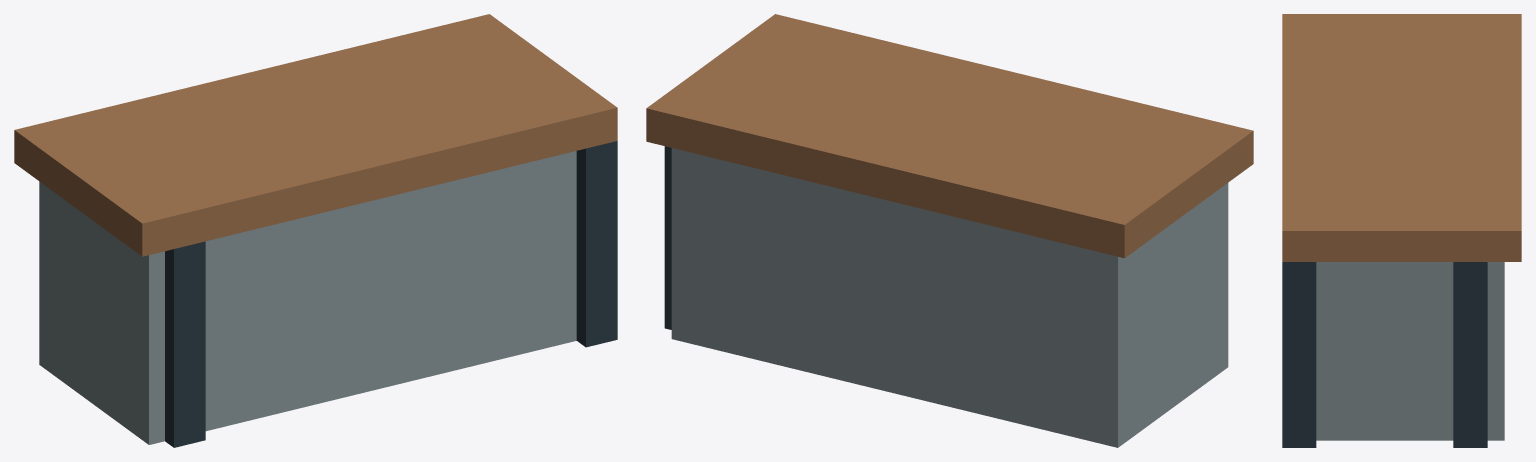
Rendered from news-05.glb.
3 views of the same model, side by side, from view 1: azimuth 30°, elevation 25°; view 2: azimuth 150°, elevation 25°; view 3: azimuth 270°, elevation 25° (orthographic). The views are drawn at different scales.
Parts seen in each view (by area): view 1: Broadcast desk; view 2: Broadcast desk; view 3: Broadcast desk.
Part boxes in pixels (x1,y1,x2,y2): Broadcast desk: (14,14,617,447); Broadcast desk: (646,14,1253,447); Broadcast desk: (1282,14,1521,447).
Bounding box in the file's own units: 2.4 × 1.12 × 1.12.
